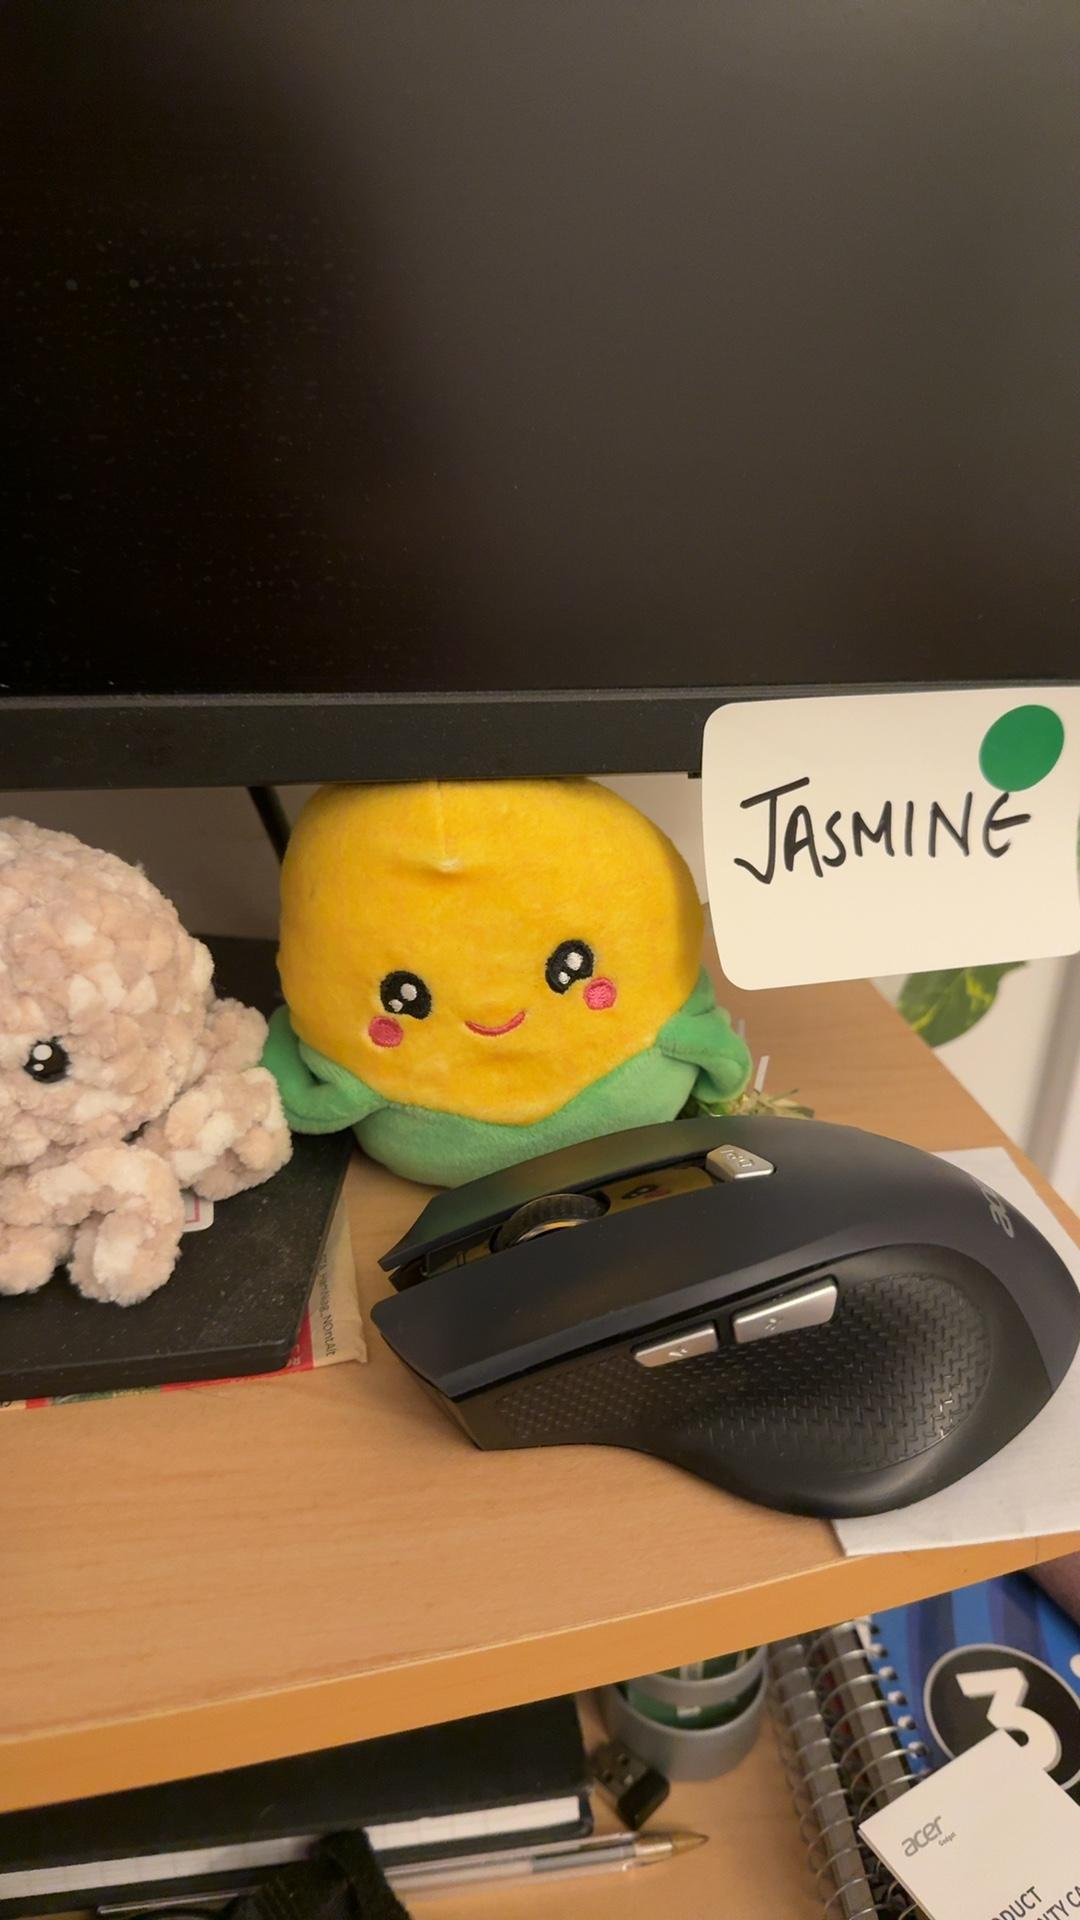Mouse: (357, 1125, 1080, 1513)
